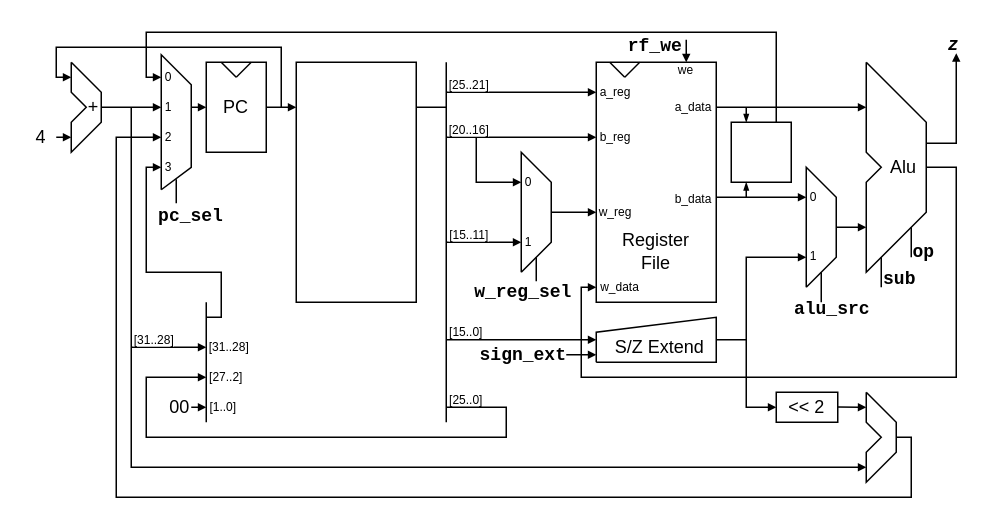
The diagram is 998 pixels wide and 531 high, and some of its shapes have lost their labels. Each missing label, with the centre of its shape:
Branch Logic: the point at 760,151
Instruction Memory: the point at 355,181
